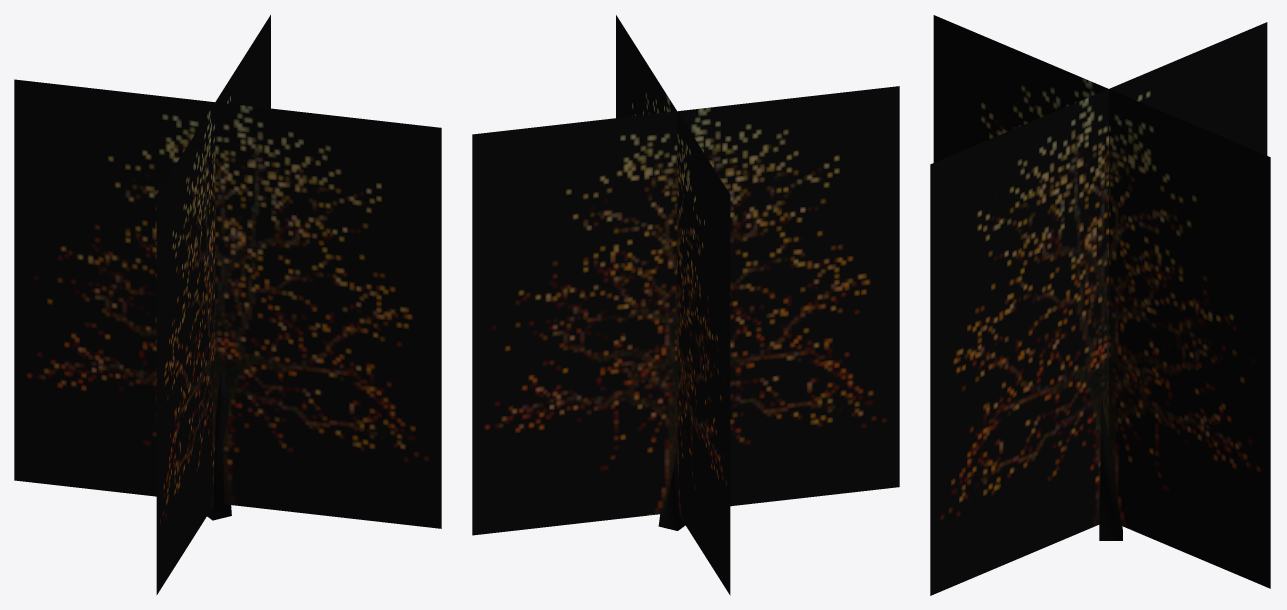
File: tree008.glb
The picture shows the model from 3 angles, left to right: view 1: azimuth 30°, elevation 25°; view 2: azimuth 150°, elevation 25°; view 3: azimuth 270°, elevation 25°; orthographic projection. The views are drawn at different scales.
Parts seen in each view (by area): view 1: tree008, tree008_trunk; view 2: tree008, tree008_trunk; view 3: tree008, tree008_trunk.
Boxes of the visible parts, x1=… form: tree008: x1=14, y1=15, x2=441, y2=594; tree008_trunk: x1=207, y1=363, x2=231, y2=520; tree008: x1=472, y1=15, x2=899, y2=595; tree008_trunk: x1=658, y1=450, x2=685, y2=530; tree008: x1=930, y1=15, x2=1270, y2=595; tree008_trunk: x1=1099, y1=396, x2=1122, y2=540.
Size of the model in its own units: 2.24 by 3.1 by 2.17.
1 material, 1 textured.
